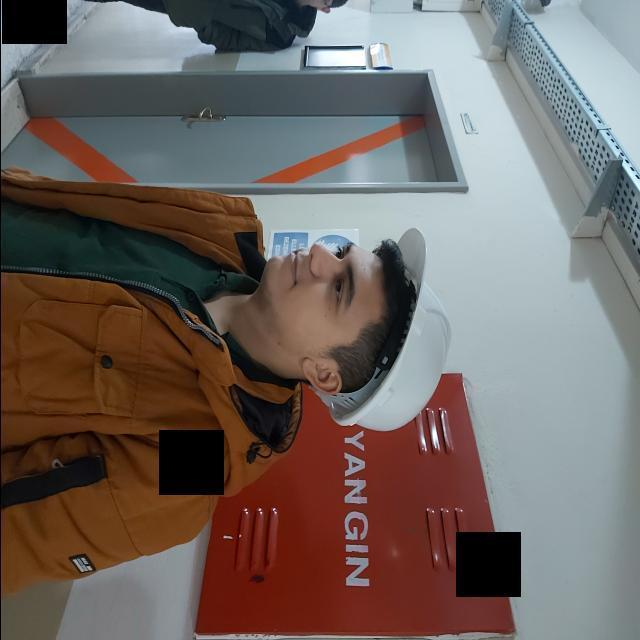white helmet: (360, 215, 460, 453)
